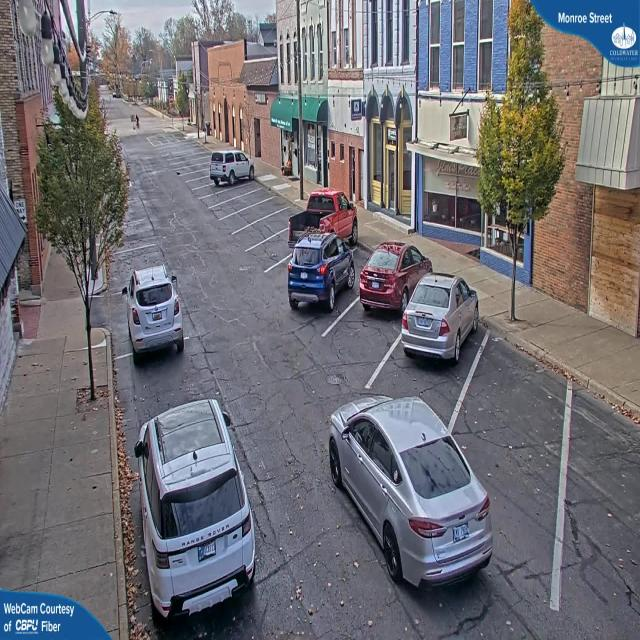available: (551, 381, 640, 574), (458, 329, 574, 448), (128, 343, 206, 416), (245, 212, 288, 243), (250, 234, 287, 265), (221, 193, 274, 208), (227, 204, 279, 218), (210, 185, 258, 194)
occupied: (142, 399, 250, 540), (400, 269, 478, 366), (121, 263, 185, 363), (286, 229, 354, 313), (291, 183, 364, 250), (361, 232, 409, 331), (209, 147, 253, 186)
